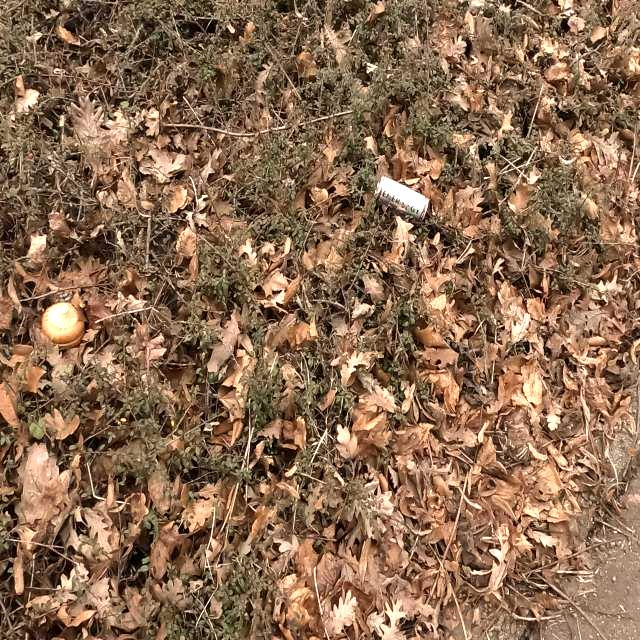Metal: (375, 171, 433, 219)
